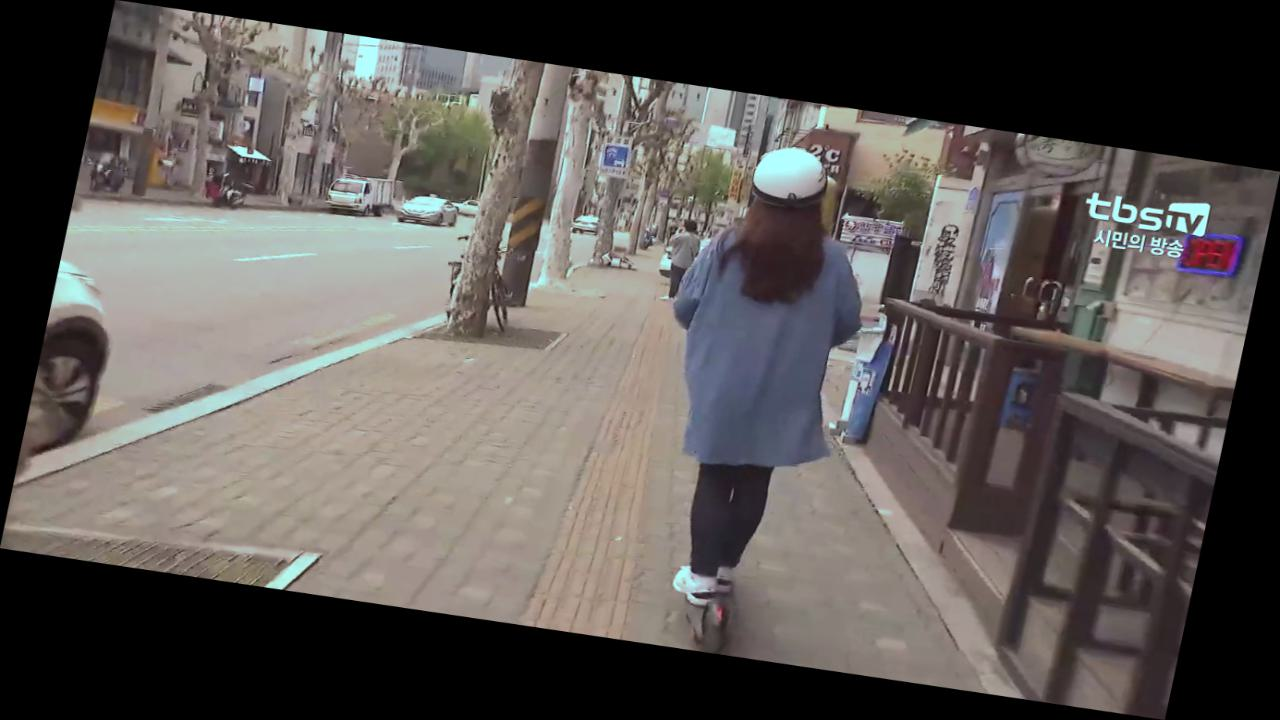helmet: (602, 134, 902, 666)
